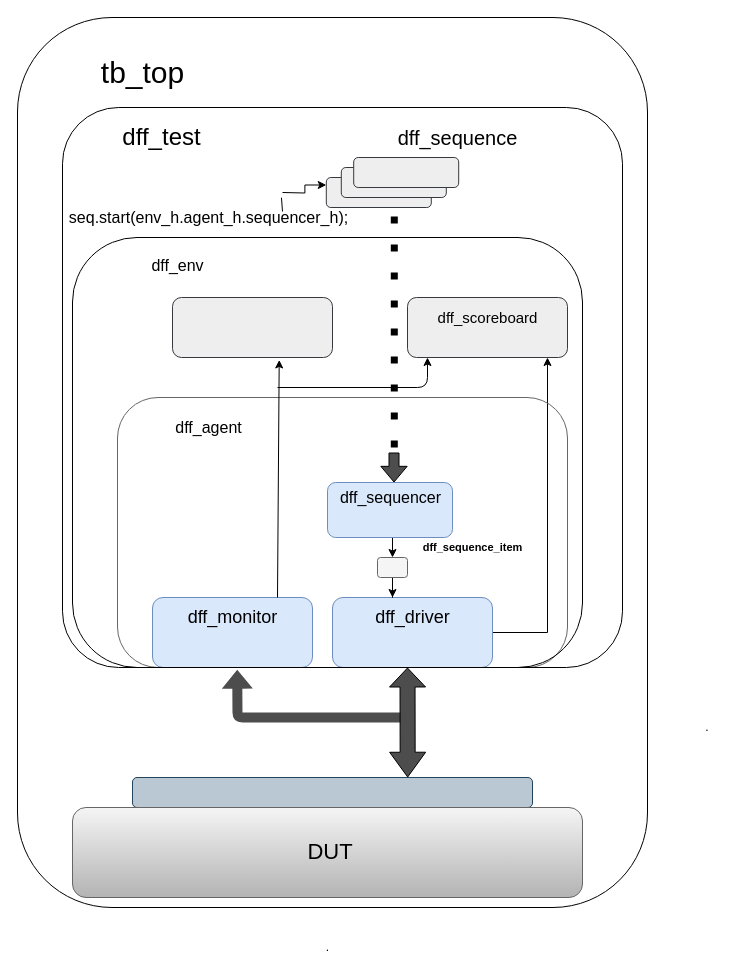
This 745x975 diagram has some shape labels left out. The shapes that lost their labels are listed below. From the top down, each one's centre as x and y in pixels, then its label:
At point (252, 327): "dff_coverage".
At point (332, 792): "interface".
